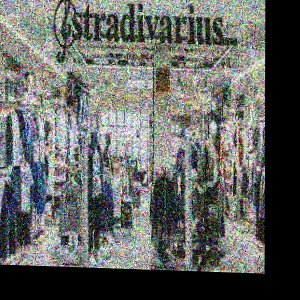stradivarius: (200, 0, 265, 3)
